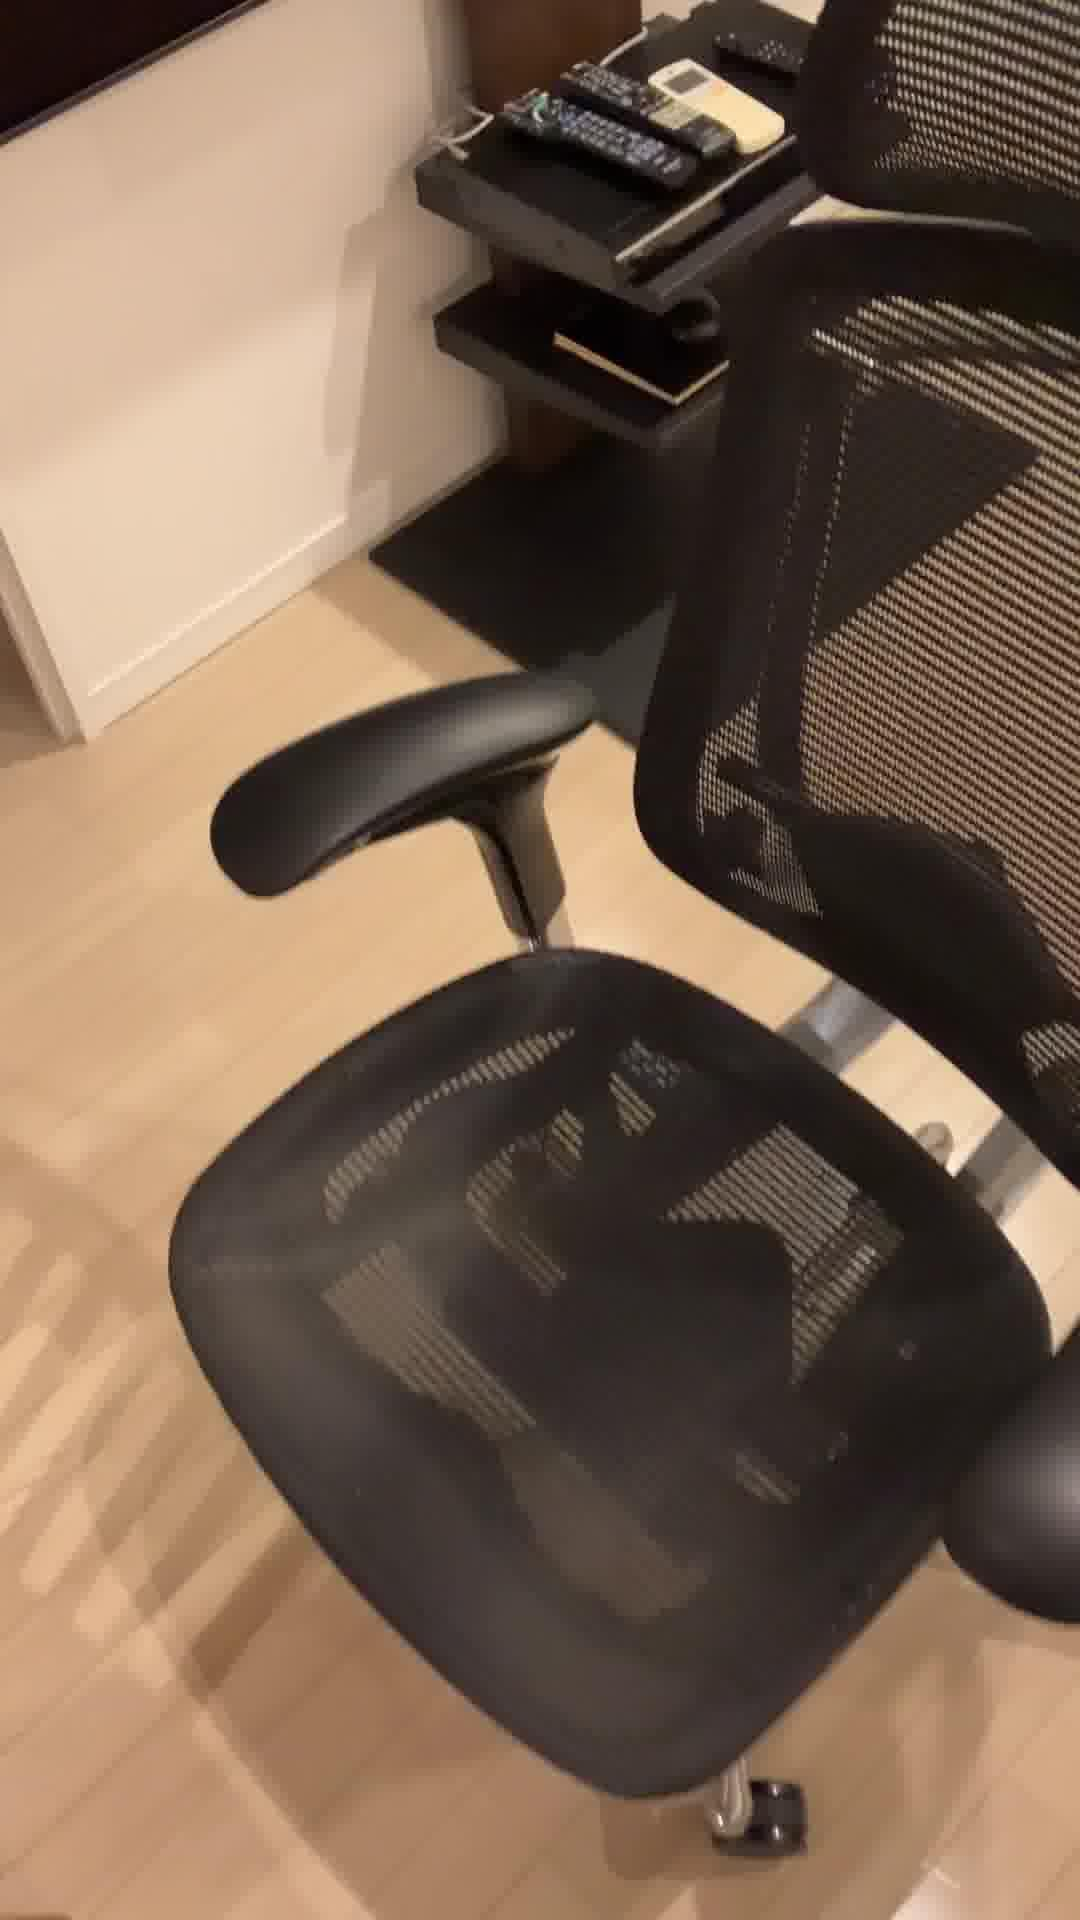okamura-contessa: (164, 0, 1080, 1865)
